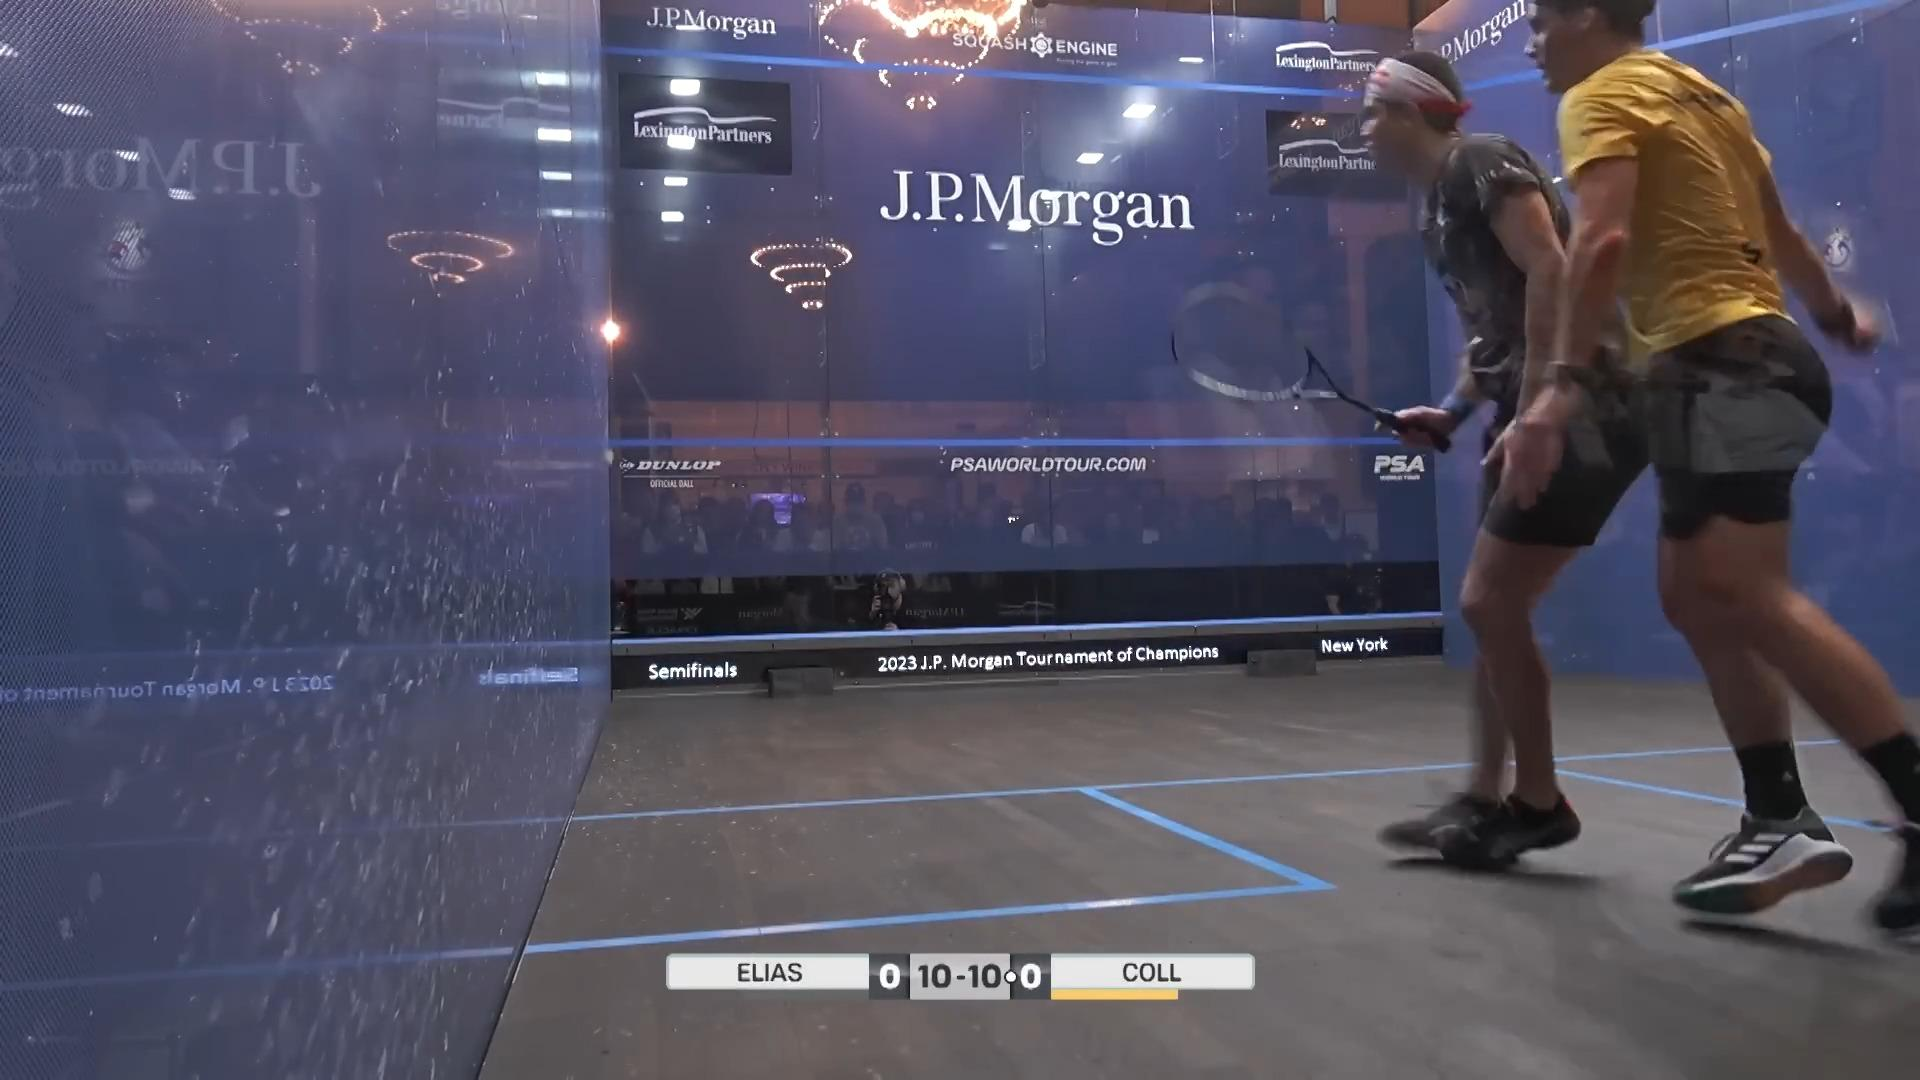Racket: (1160, 265, 1404, 435)
